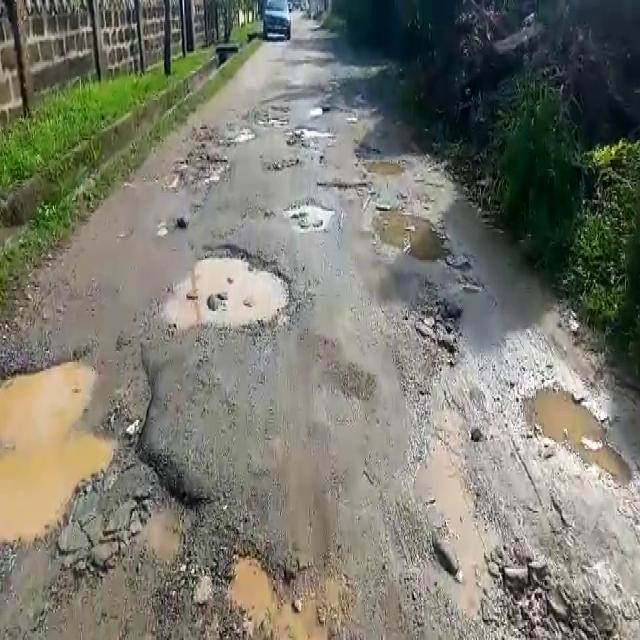Pothole: (2, 348, 212, 566), (198, 536, 365, 640), (475, 554, 624, 640), (521, 381, 634, 494), (158, 243, 300, 331), (372, 207, 456, 268), (402, 296, 459, 364), (167, 148, 230, 192), (284, 200, 332, 232), (317, 177, 382, 195), (359, 152, 407, 176), (261, 155, 304, 173)
